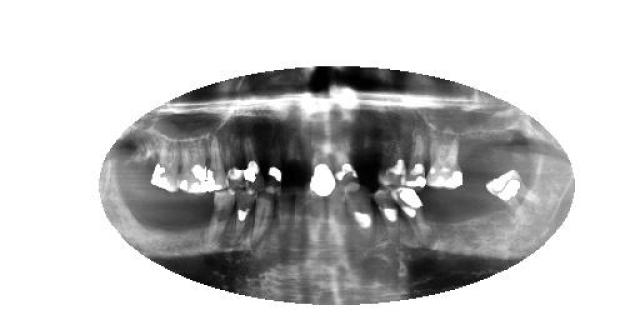Cavity: (285, 131, 304, 170)
Fillings: (486, 169, 540, 220), (304, 120, 338, 195), (390, 186, 429, 249), (425, 131, 464, 191), (149, 134, 181, 194), (178, 135, 208, 194), (206, 134, 229, 192), (404, 128, 426, 188), (242, 134, 262, 191)
